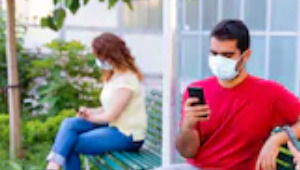Caution: (46, 17, 300, 170)
